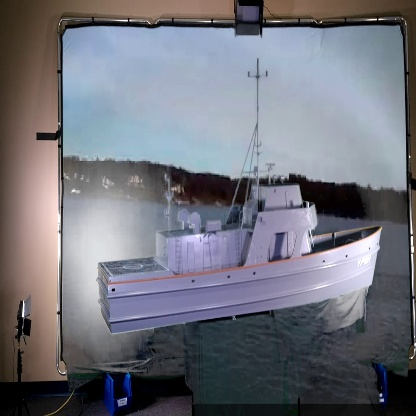YP689: (96, 56, 386, 335)
